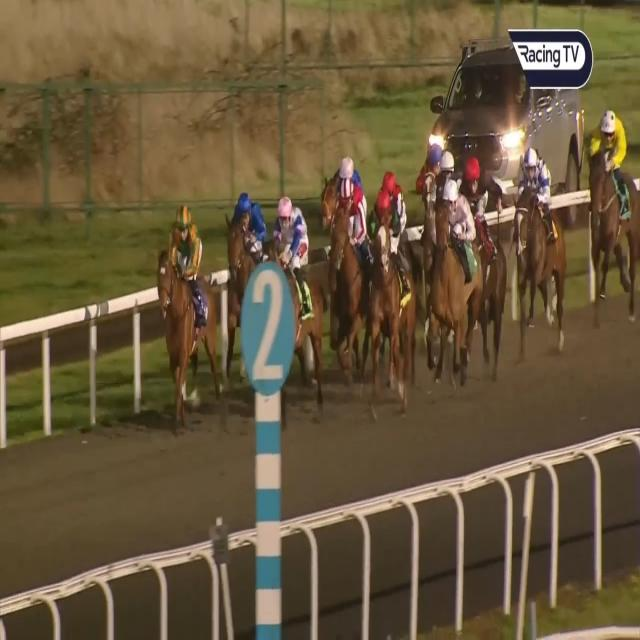horses-racing: (151, 198, 220, 396), (514, 150, 578, 358), (268, 204, 332, 388), (588, 106, 640, 307), (365, 189, 410, 384), (463, 152, 514, 316), (429, 177, 483, 325), (332, 180, 370, 382), (224, 191, 274, 339), (417, 138, 447, 202), (331, 146, 367, 198), (370, 167, 409, 214), (436, 141, 458, 199)
